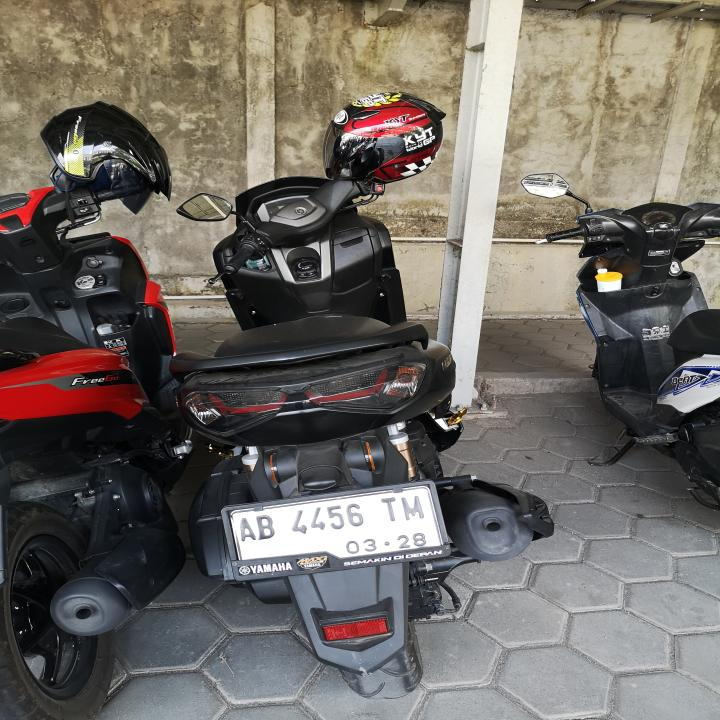plate: (222, 483, 459, 581)
